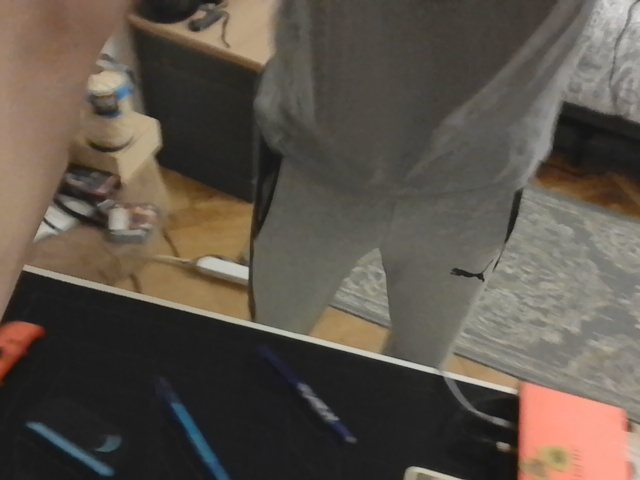joycon: (27, 399, 129, 474), (0, 322, 43, 385)
pen: (255, 337, 358, 443), (154, 378, 229, 478)
